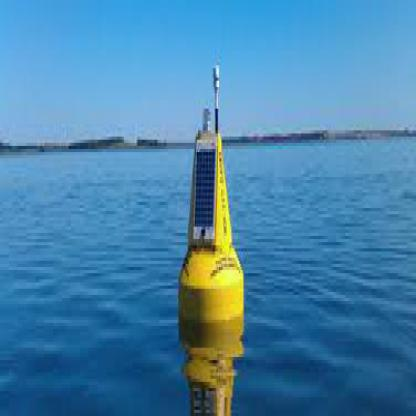buoy: (177, 50, 249, 363)
